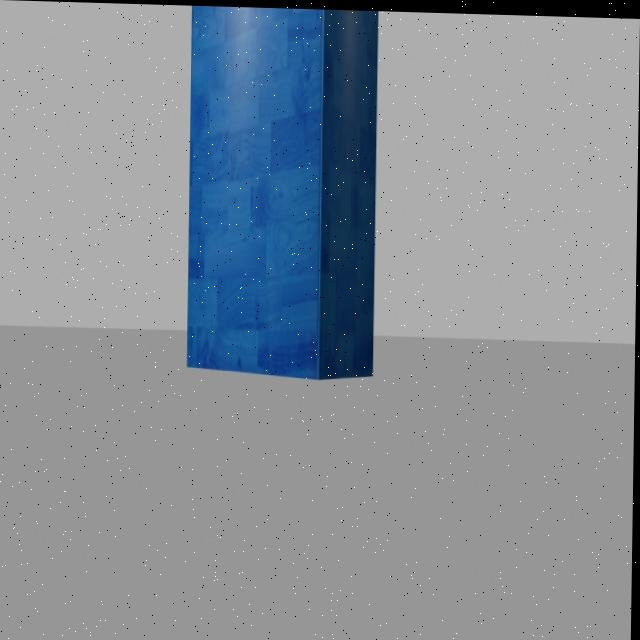shelf: (175, 4, 384, 402)
